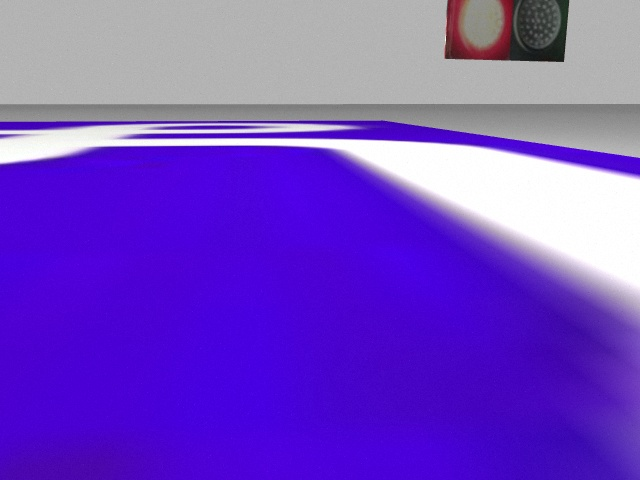red: (450, 1, 510, 61)
